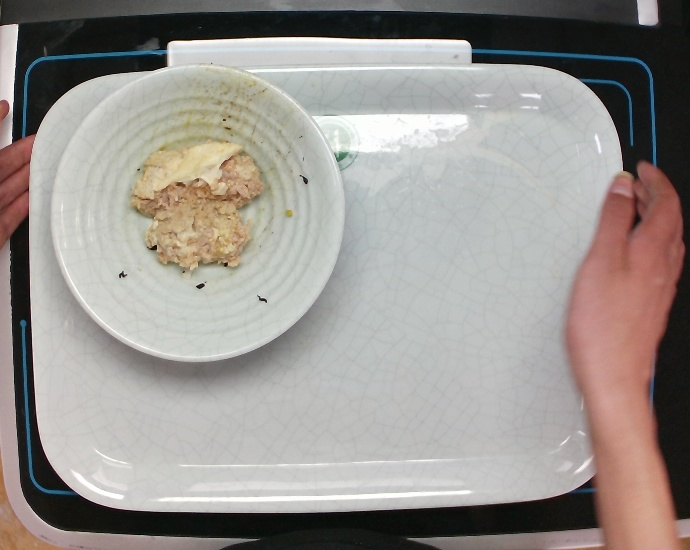JYsf-Xiao_Tang_Wan: (49, 59, 347, 365)
